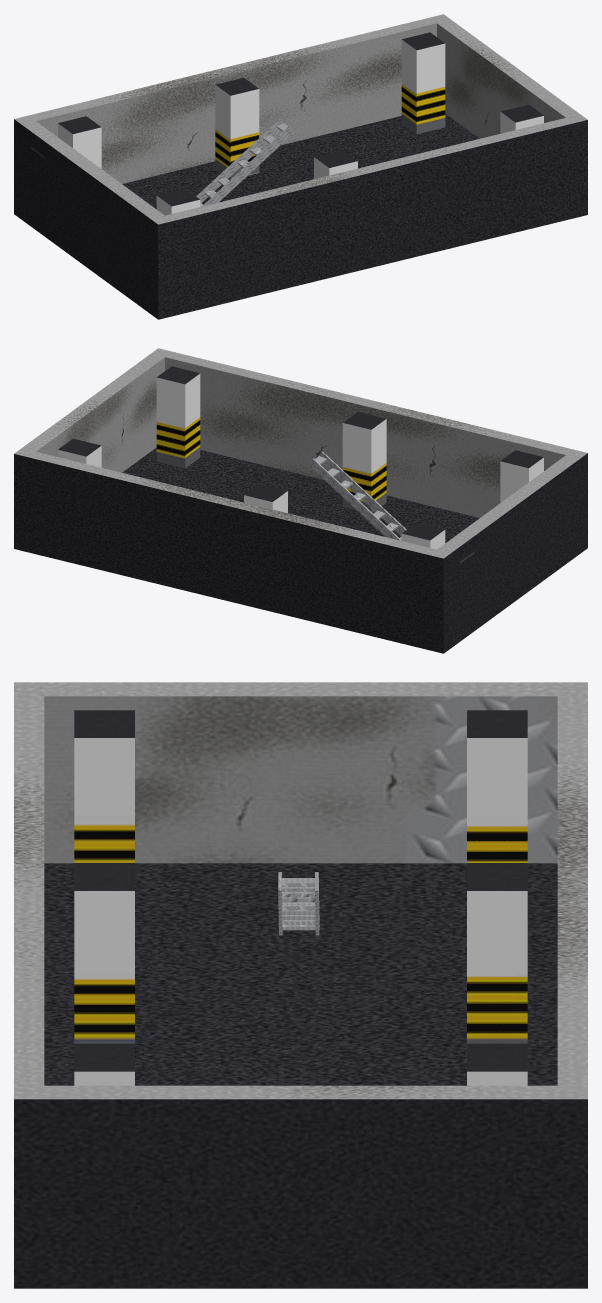
The model's file is Garage to Warehouse.FBX.
3 renders of one model, top to bottom at view 1: azimuth 30°, elevation 25°; view 2: azimuth 150°, elevation 25°; view 3: azimuth 270°, elevation 25°, orthographic. The views are drawn at different scales.
Parts seen in each view (by area): view 1: Box001, Box014, Stairs; view 2: Box001, Box014, Stairs; view 3: Box001, Box014.
Boxes of the visible parts, bbox=[...] form: Box001: bbox=[14, 14, 587, 319]; Box014: bbox=[200, 123, 294, 206]; Stairs: bbox=[196, 118, 283, 202]; Box001: bbox=[14, 348, 587, 653]; Box014: bbox=[309, 452, 406, 539]; Stairs: bbox=[308, 458, 401, 540]; Box001: bbox=[14, 682, 587, 1288]; Box014: bbox=[278, 872, 319, 935].
Bounding box in the file's own units: 299 × 64.41 × 174.
1 material, 1 textured.
